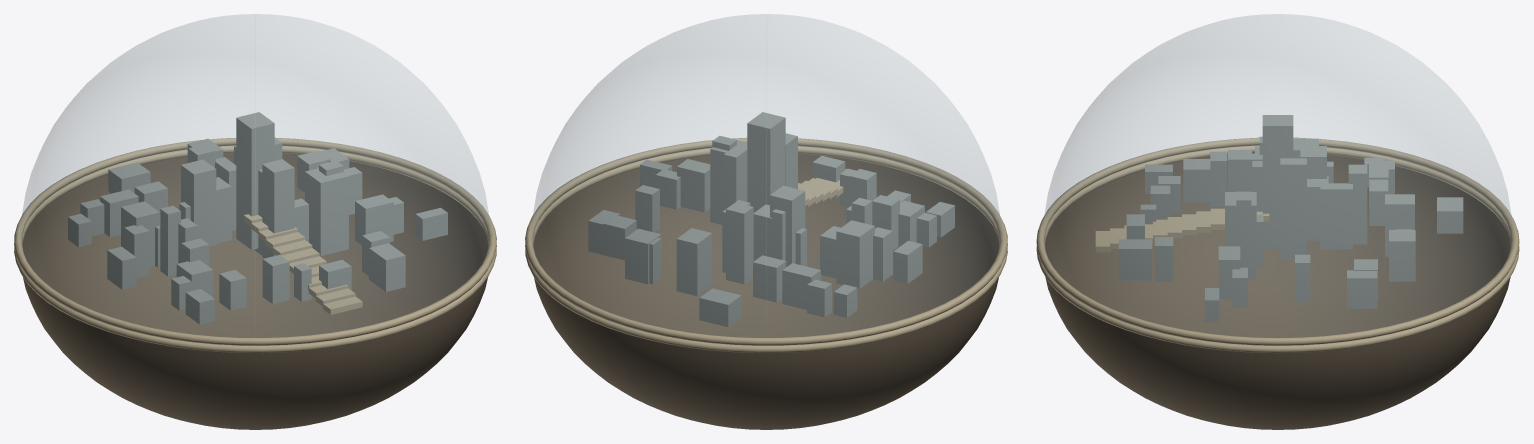
File: axio.glb
The picture shows the model from 3 angles, left to right: view 1: azimuth 30°, elevation 25°; view 2: azimuth 150°, elevation 25°; view 3: azimuth 270°, elevation 25°; orthographic projection.
Parts seen in each view (by area): view 1: Transparent upper hemisphere, Lower bronze bowl, World under glass, Equator rim; view 2: Transparent upper hemisphere, Lower bronze bowl, World under glass, Equator rim; view 3: Transparent upper hemisphere, Lower bronze bowl, World under glass, Equator rim.
Boxes of the visible parts, <box> form: Transparent upper hemisphere: <box>20,14,490,337</box>; Lower bronze bowl: <box>22,153,488,429</box>; World under glass: <box>68,112,447,324</box>; Equator rim: <box>14,138,496,353</box>; Transparent upper hemisphere: <box>531,14,1001,337</box>; Lower bronze bowl: <box>533,153,999,429</box>; World under glass: <box>588,112,954,327</box>; Equator rim: <box>525,138,1007,353</box>; Transparent upper hemisphere: <box>1042,14,1513,337</box>; Lower bronze bowl: <box>1045,153,1510,429</box>; World under glass: <box>1118,115,1463,322</box>; Equator rim: <box>1036,137,1519,353</box>.
Bounding box in the file's own units: 0.47 × 0.391 × 0.47.
